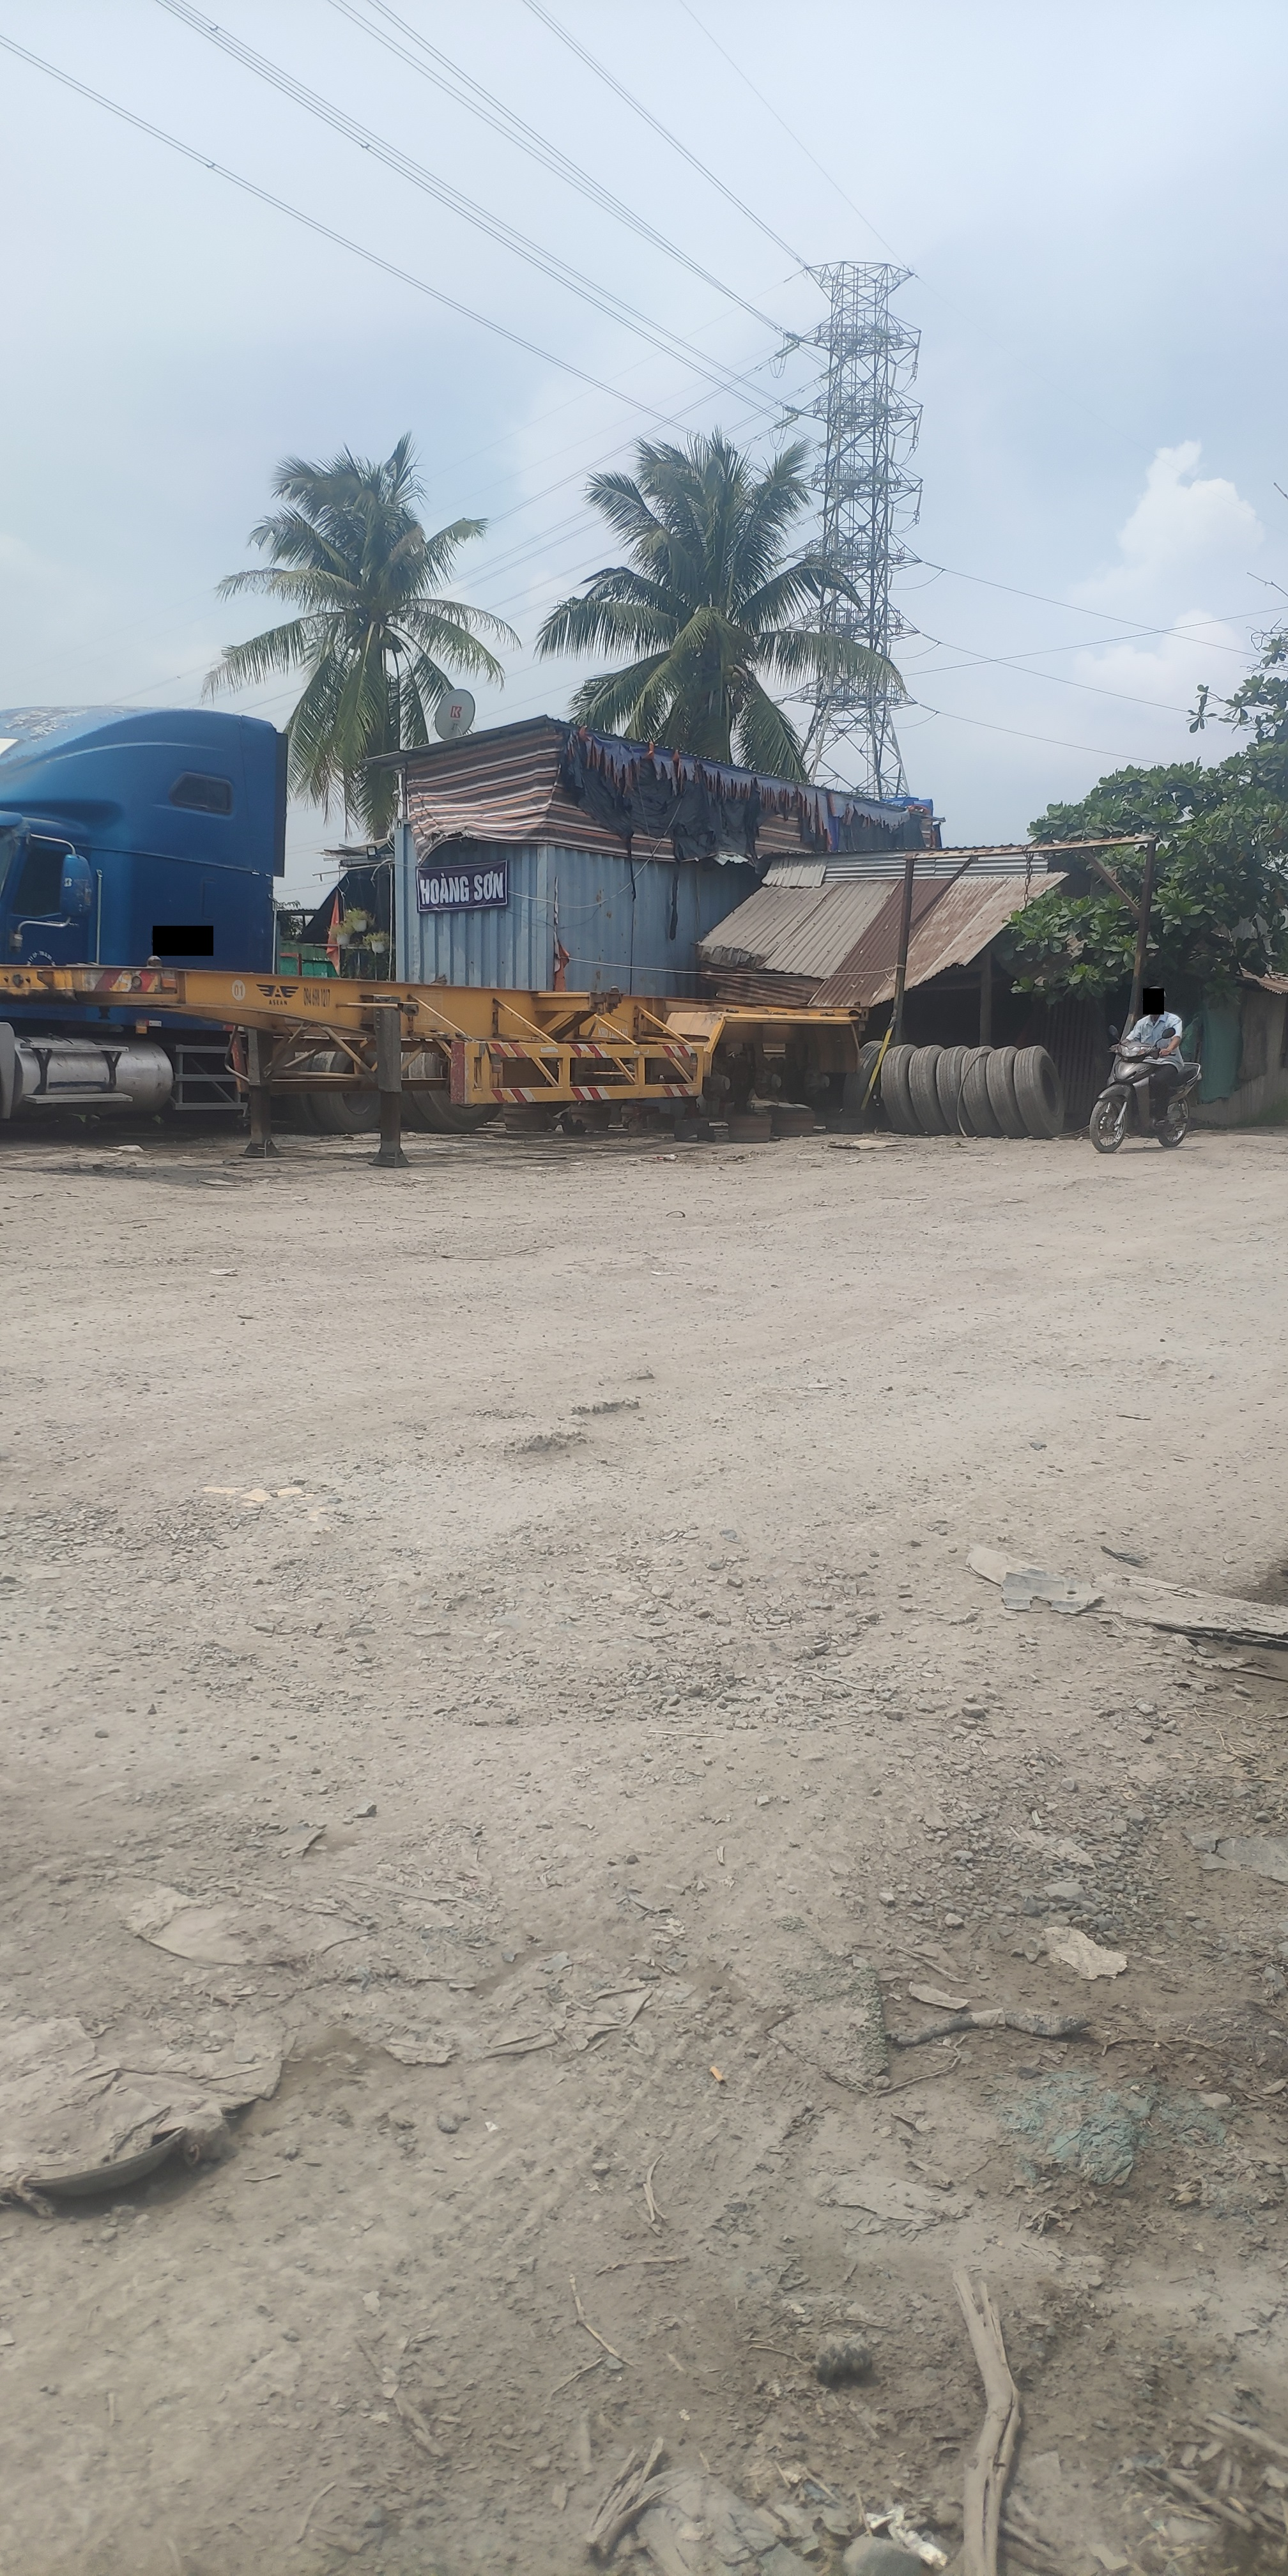hole: (389, 1502, 871, 1736), (496, 1383, 667, 1460)
